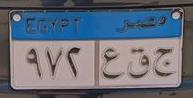2: (65, 45, 85, 79)
7: (45, 47, 64, 79)
9: (24, 46, 43, 80)
ain: (100, 47, 124, 81)
jeem: (152, 44, 175, 81)
qaaf: (125, 45, 150, 81)
